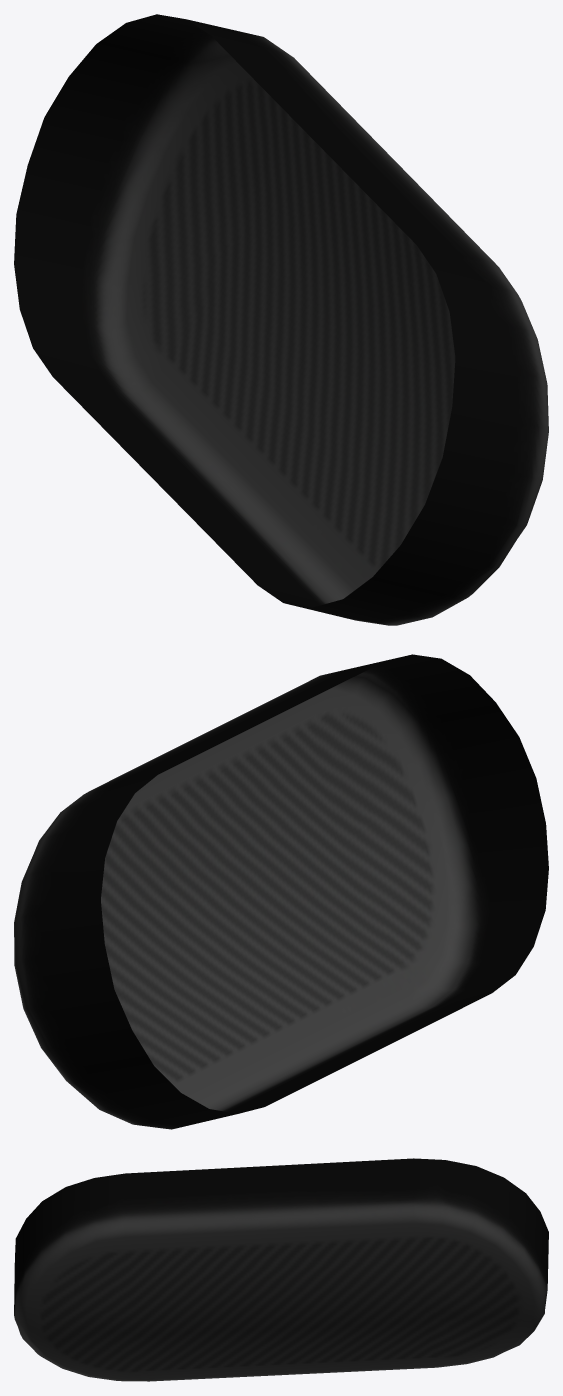
File: vive_r_grip.fbx
The picture shows the model from 3 angles, top to bottom: view 1: azimuth 30°, elevation 25°; view 2: azimuth 150°, elevation 25°; view 3: azimuth 270°, elevation 25°; orthographic projection. The views are drawn at different scales.
Visible parts, largest first — view 1: r_gripper group1; view 2: r_gripper group1; view 3: r_gripper group1.
Part boxes in pixels (x1,y1,x2,y2): r_gripper group1: [14, 14, 548, 625]; r_gripper group1: [14, 654, 548, 1129]; r_gripper group1: [14, 1158, 548, 1381].
Size of the model in its own units: 1.01 by 1.51 by 2.96.
Materials: 1 (1 with a texture image).
